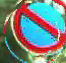No waiting: (11, 1, 65, 56)
